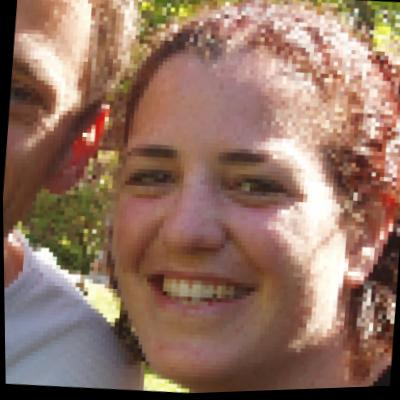happy: (57, 1, 384, 398)
